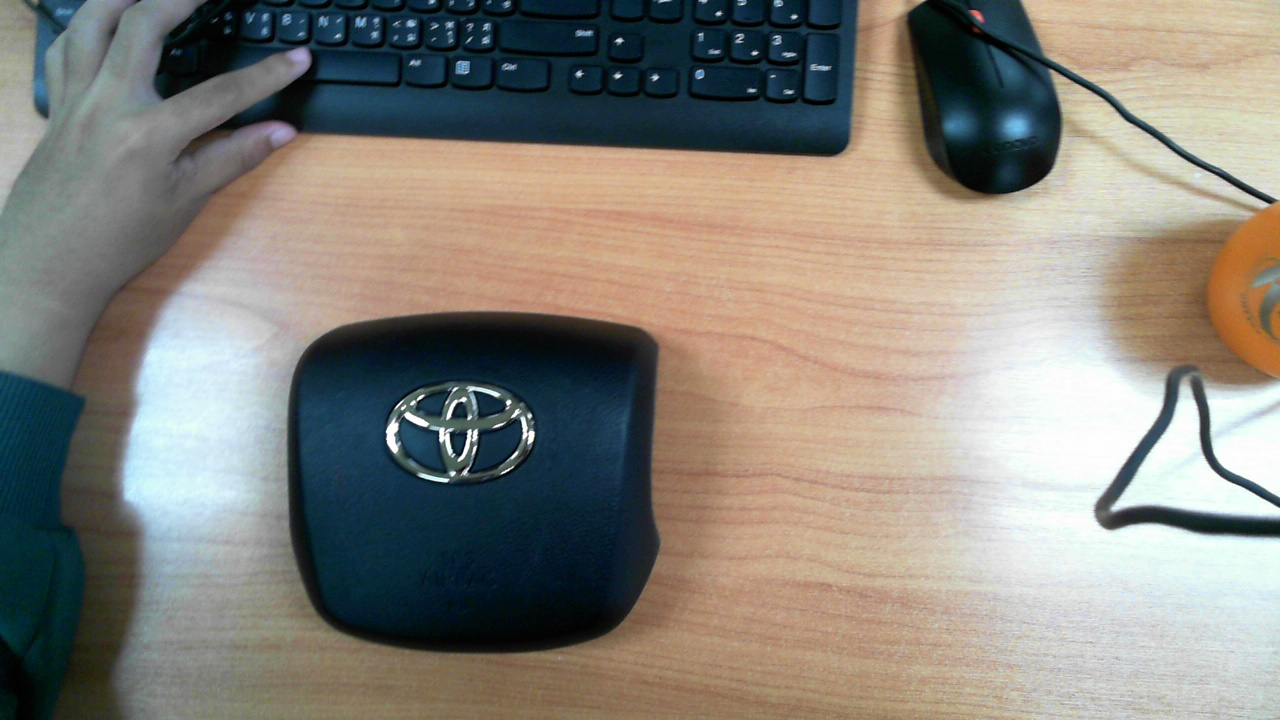Airbag: (286, 310, 662, 655)
Toyota: (385, 384, 535, 483)
